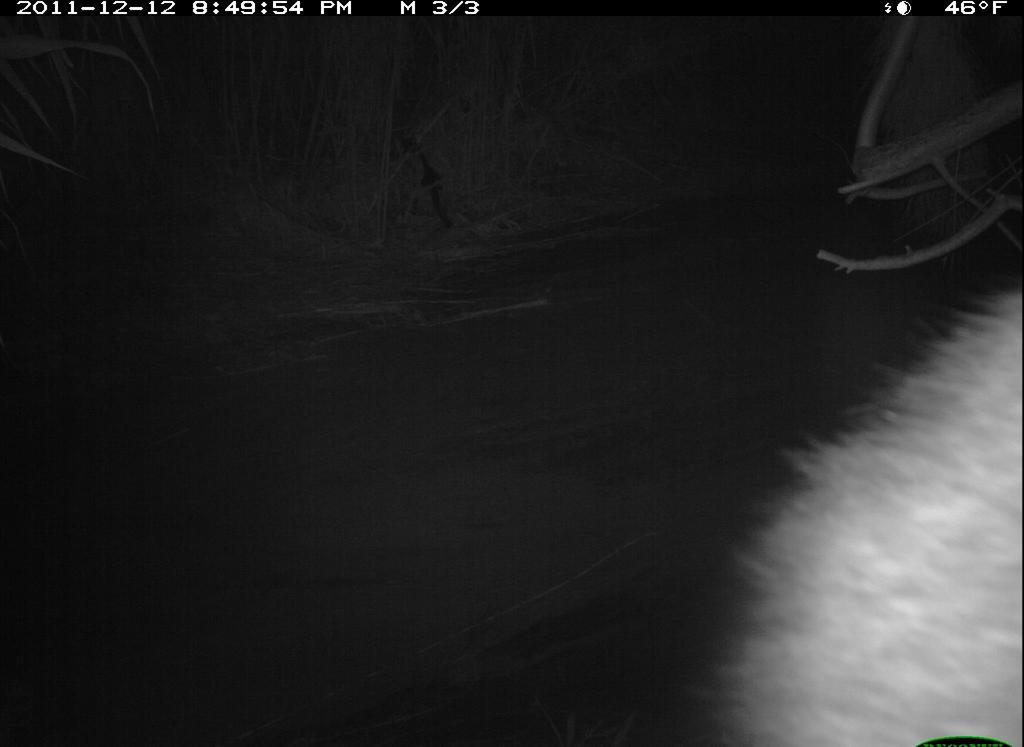raccoon: (710, 281, 1019, 747)
